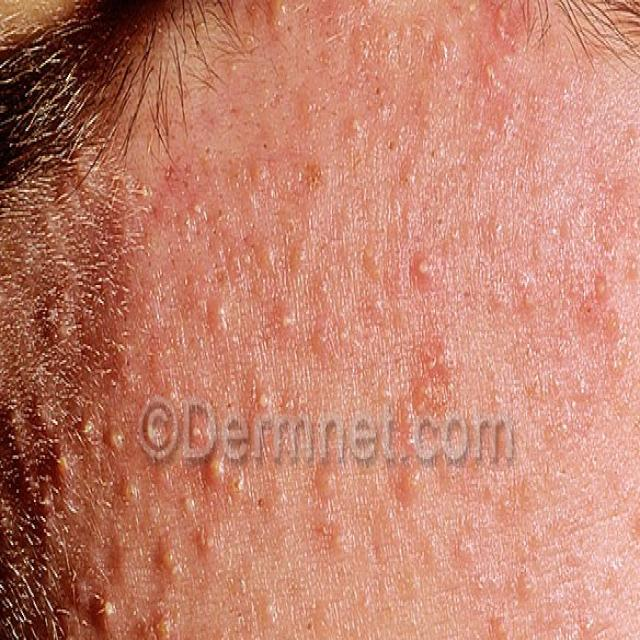Acne: (24, 276, 315, 640), (481, 251, 640, 552), (330, 4, 562, 197), (389, 324, 462, 538), (318, 453, 352, 592), (386, 236, 457, 299)
